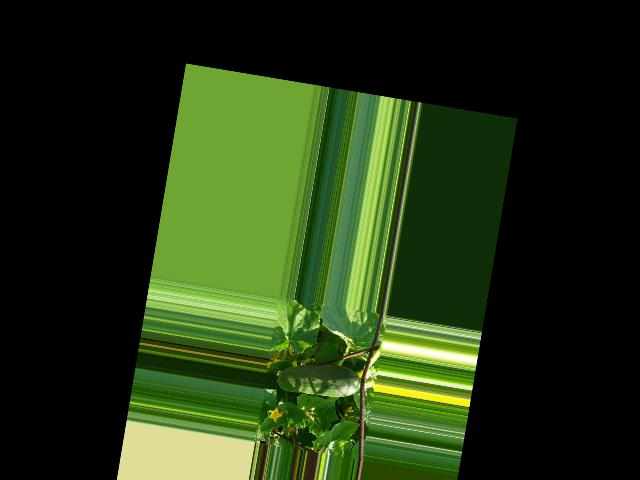cucumber: (275, 354, 362, 402)
